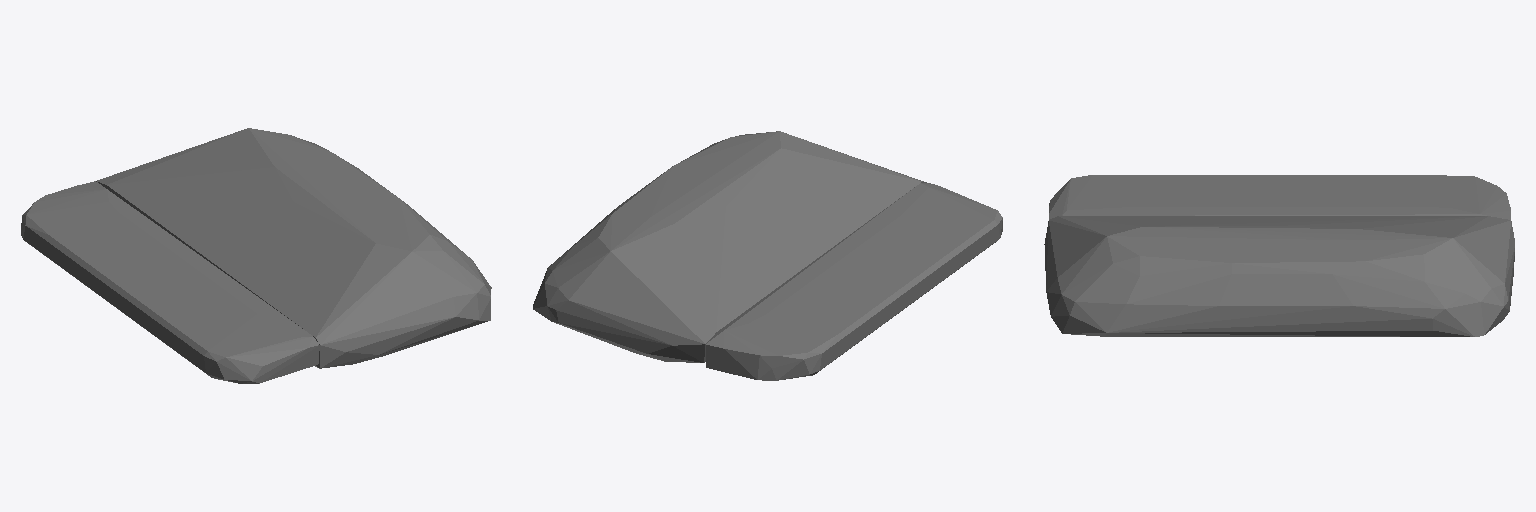
robot.urdf — cellphone_004:
<?xml version="1.0" ?>
<robot name="cellphone_004">
  <material name="color">
    <color rgba=".5 .5 .5 1"/>
  </material>

  <link name="base_link">
    <contact>
      <lateral_friction value="1.0"/>
      <rolling_friction value="0.001"/>
      <spinning_friction value="0.001"/>
      <inertia_scaling value="1.0"/>
    </contact>
    <inertial>
      <origin rpy="0 0 0" xyz="0.00202575 -0.00035768 0.00615386"/>
       <mass value="0.1"/>
       <inertia ixx="1" ixy="0" ixz="0" iyy="1" iyz="0" izz="1"/>
    </inertial>

    <visual>
      <origin rpy="0 0 0" xyz="0 0 0"/>
      <geometry>
        <mesh filename="cellphone_004_vhacd_0_of_2.obj" scale="1 1 1"/>
      </geometry>
      <material name="color"/>
    </visual>
    <visual>
      <origin rpy="0 0 0" xyz="0 0 0"/>
      <geometry>
        <mesh filename="cellphone_004_vhacd_1_of_2.obj" scale="1 1 1"/>
      </geometry>
      <material name="color"/>
    </visual>

    <collision>
      <origin rpy="0 0 0" xyz="0 0 0"/>
      <geometry>
        <mesh filename="cellphone_004_vhacd_0_of_2.obj" scale="1 1 1"/>
      </geometry>
    </collision>
    <collision>
      <origin rpy="0 0 0" xyz="0 0 0"/>
      <geometry>
        <mesh filename="cellphone_004_vhacd_1_of_2.obj" scale="1 1 1"/>
      </geometry>
    </collision>

  </link>
</robot>

--- Render facts (derived) ---
Views: 3 orthographic renders of the robot side by side, from view 1: azimuth 30°, elevation 25°; view 2: azimuth 150°, elevation 25°; view 3: azimuth 270°, elevation 25°.
Robot: cellphone_004 — 1 links, 0 joints (none); root link base_link; default pose: every joint at zero.
Links seen in each view (by area): view 1: base_link; view 2: base_link; view 3: base_link.
Link boxes in pixels (x1,y1,x2,y2): base_link: (21, 128, 491, 383); base_link: (533, 131, 1002, 380); base_link: (1044, 175, 1514, 336).
Size in the robot's own frame: 0.1034 by 0.1389 by 0.0292 metres.
Meshes: 2 distinct files referenced, 2 mesh visuals loaded (2 OBJ).